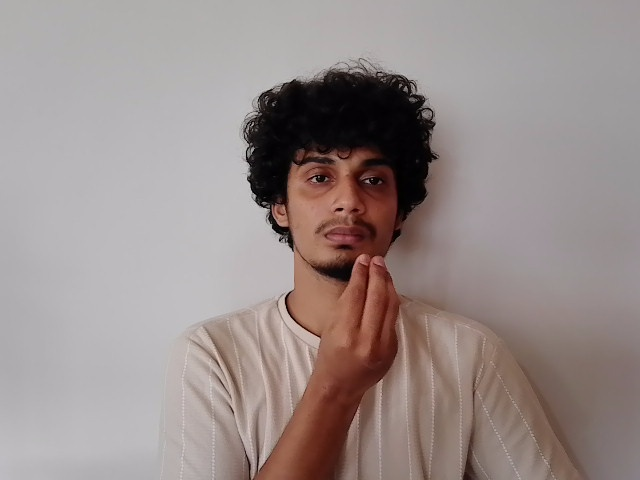eat: (270, 146, 415, 394)
